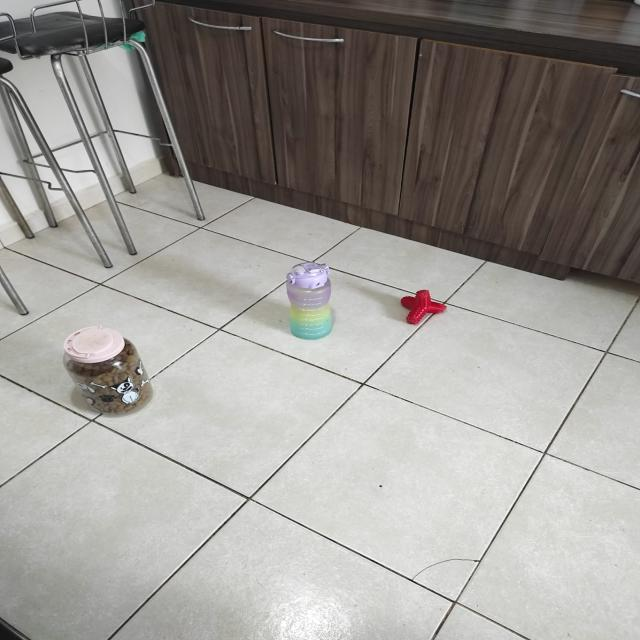brinquedo caro: (389, 285, 450, 329)
garrafinha de agua: (276, 259, 340, 341)
racao: (48, 320, 157, 425)
